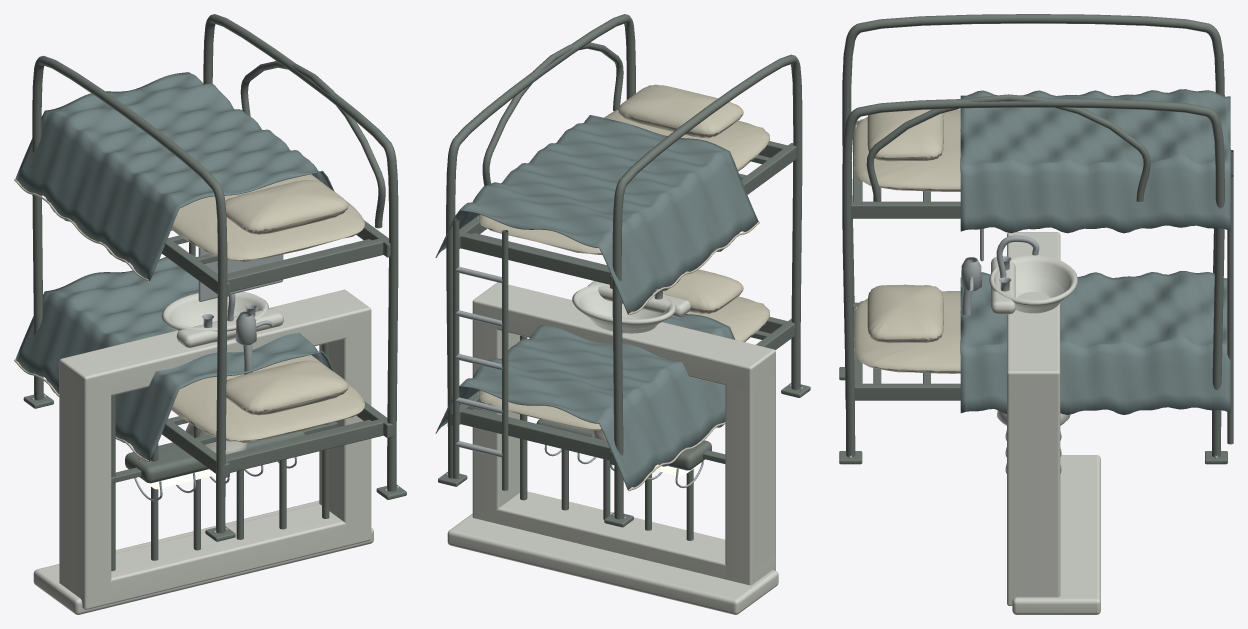
The model's file is cell-props.glb.
3 renders of one model, left to right at view 1: azimuth 30°, elevation 25°; view 2: azimuth 150°, elevation 25°; view 3: azimuth 270°, elevation 25°, orthographic. The views are drawn at different scales.
Parts seen in each view (by area): view 1: BunkMesh, WindowMesh, SinkMesh, LuminaireMesh, ToiletMesh; view 2: BunkMesh, WindowMesh, SinkMesh, LuminaireMesh; view 3: BunkMesh, WindowMesh, SinkMesh, ToiletMesh.
Boxes of the visible parts, x1,y1,x2,y2 form: BunkMesh: [14, 14, 406, 541]; WindowMesh: [33, 289, 373, 614]; SinkMesh: [161, 248, 283, 347]; LuminaireMesh: [125, 431, 305, 501]; ToiletMesh: [185, 311, 273, 454]; BunkMesh: [435, 14, 810, 527]; WindowMesh: [447, 282, 778, 614]; SinkMesh: [572, 281, 690, 333]; LuminaireMesh: [536, 418, 711, 488]; BunkMesh: [839, 14, 1233, 464]; WindowMesh: [1007, 232, 1100, 614]; SinkMesh: [980, 228, 1077, 314]; ToiletMesh: [960, 257, 1070, 425].
Size of the model in its own units: 1.96 by 3.05 by 2.22.
